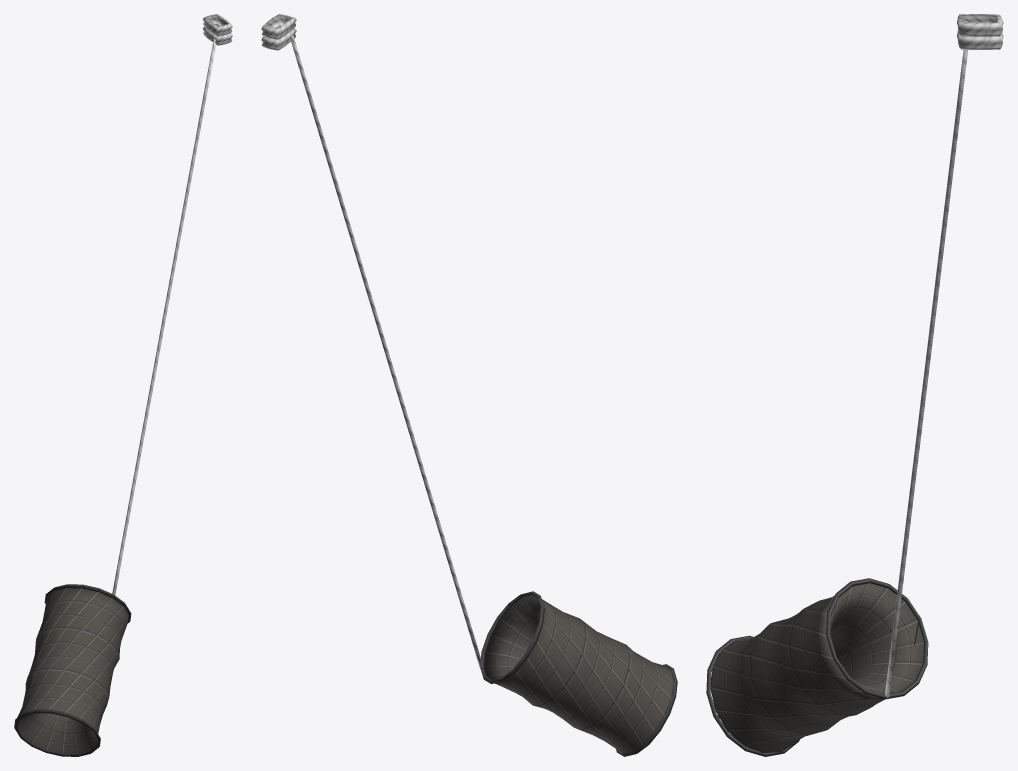
Rendered from CP_Fish_trap.fbx.
3 views of the same model, side by side, from view 1: azimuth 30°, elevation 25°; view 2: azimuth 150°, elevation 25°; view 3: azimuth 270°, elevation 25° (orthographic). The views are drawn at different scales.
Parts seen in each view (by area): view 1: CP_Fish_trap; view 2: CP_Fish_trap; view 3: CP_Fish_trap.
Boxes of the visible parts, x1,y1,x2,y2 form: CP_Fish_trap: [14, 14, 232, 756]; CP_Fish_trap: [261, 14, 677, 756]; CP_Fish_trap: [706, 14, 1003, 756].
Size of the model in its own units: 87.17 by 188 by 56.91.
